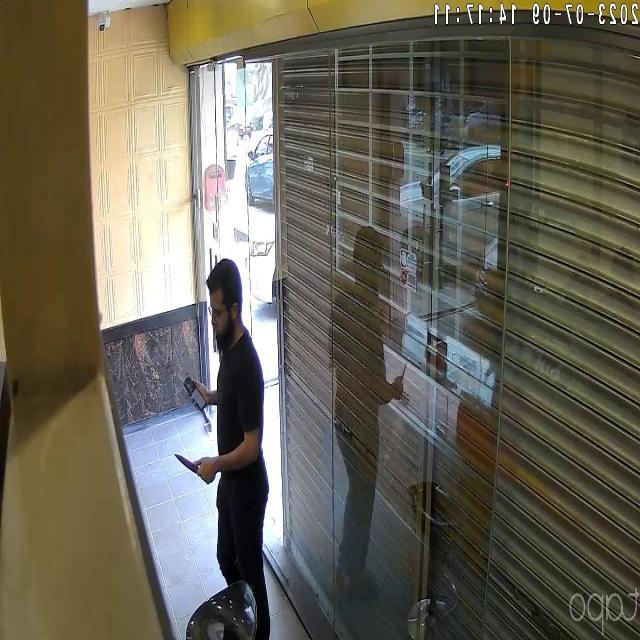Knife: (171, 446, 216, 486)
